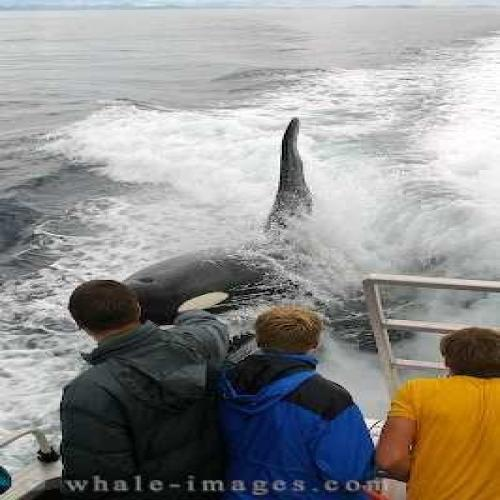killer_whale-endangered: (92, 109, 410, 340)
